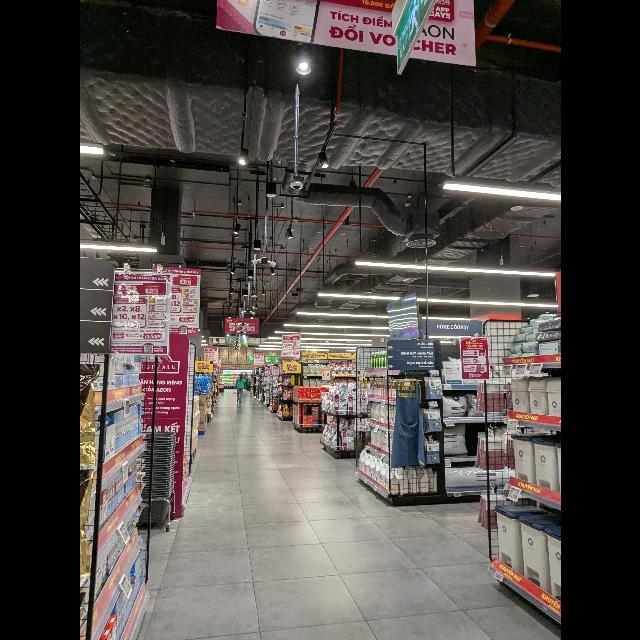exit: (392, 0, 438, 74)
